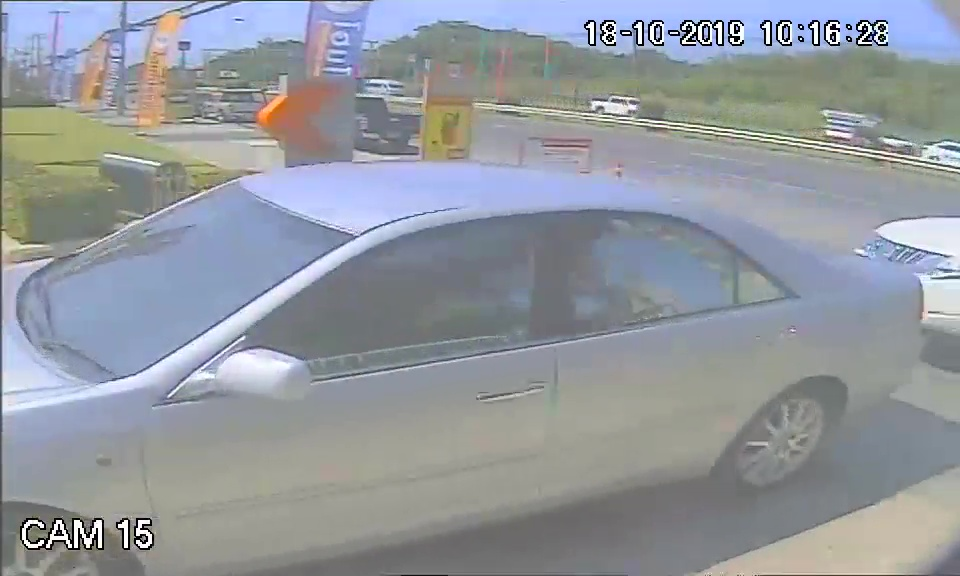sedan: (6, 159, 889, 543)
